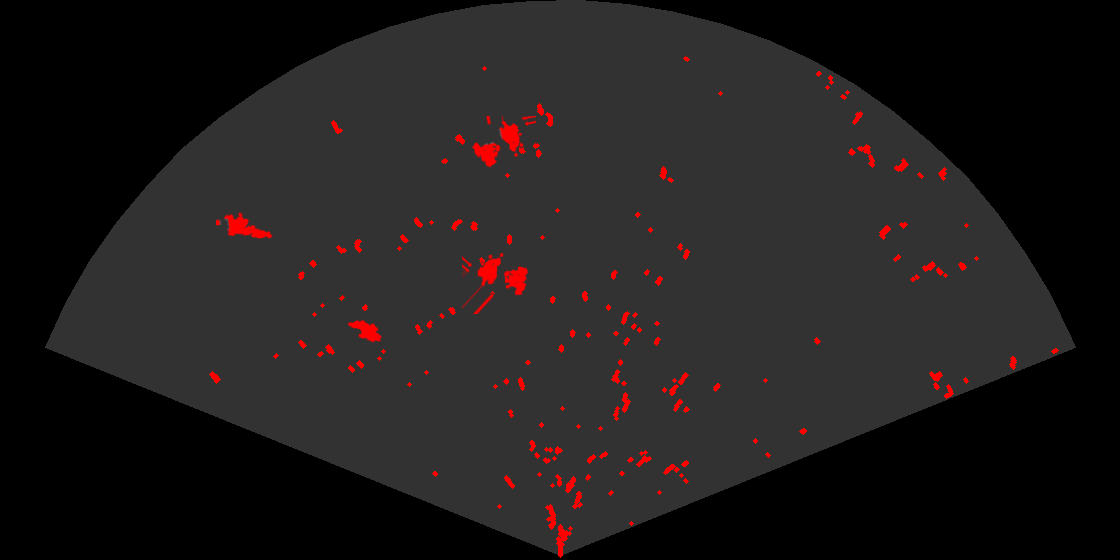AUV: (346, 318, 384, 344)
cage: (462, 251, 530, 314), (470, 116, 536, 169)
frogman: (216, 210, 274, 240)
